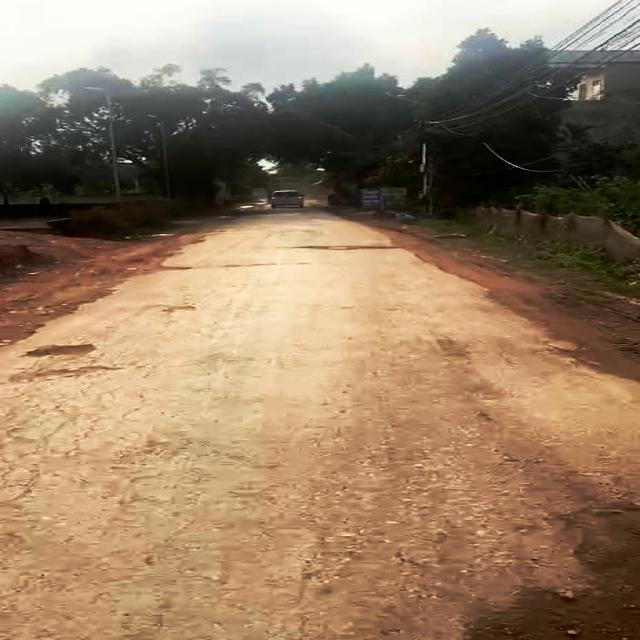pothole: (438, 493, 640, 640)
